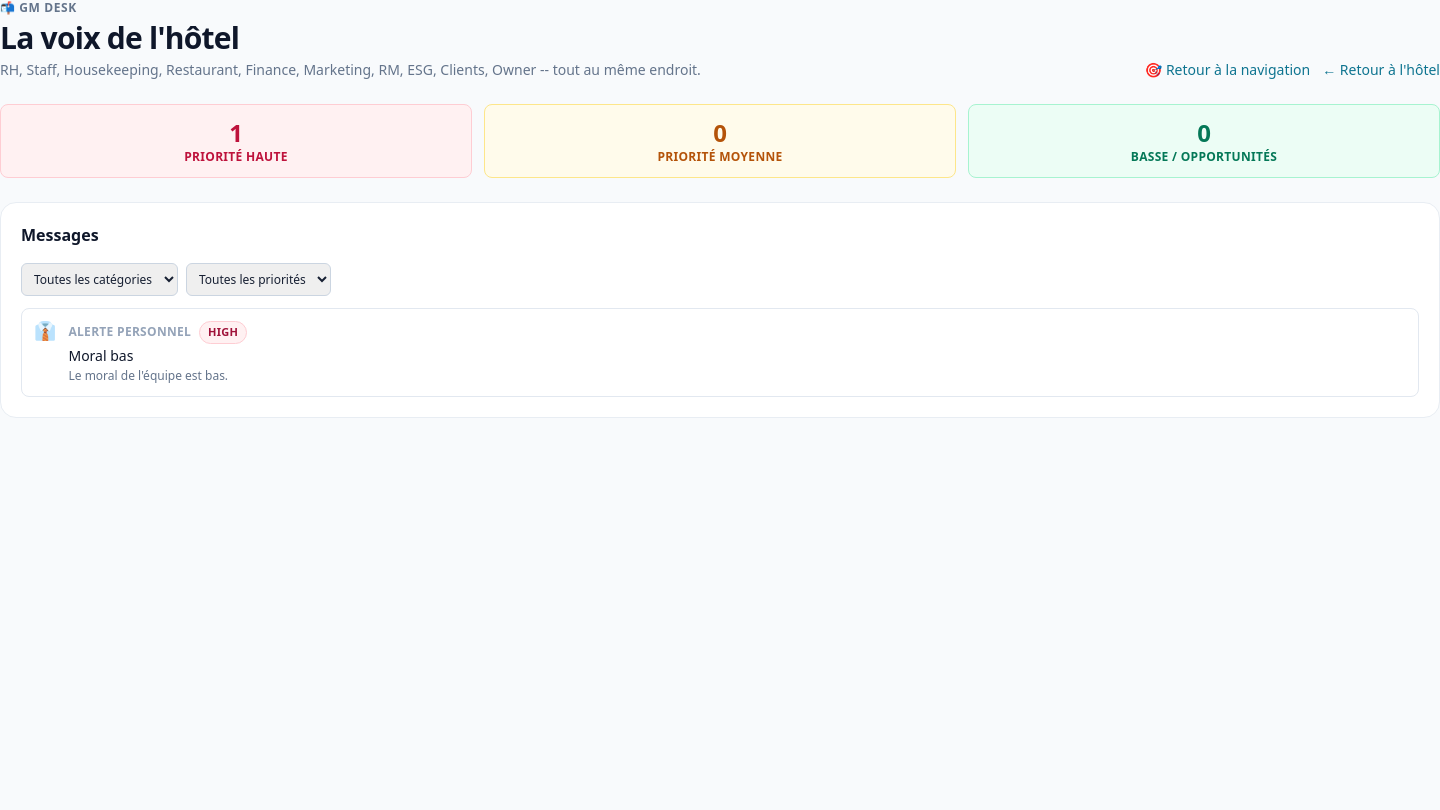
Test case: surfaces an error notification when applying a decision fails
Click the text "Moral bas" at coordinates (101, 355), box top-left (68, 346), bottom-right (134, 364)
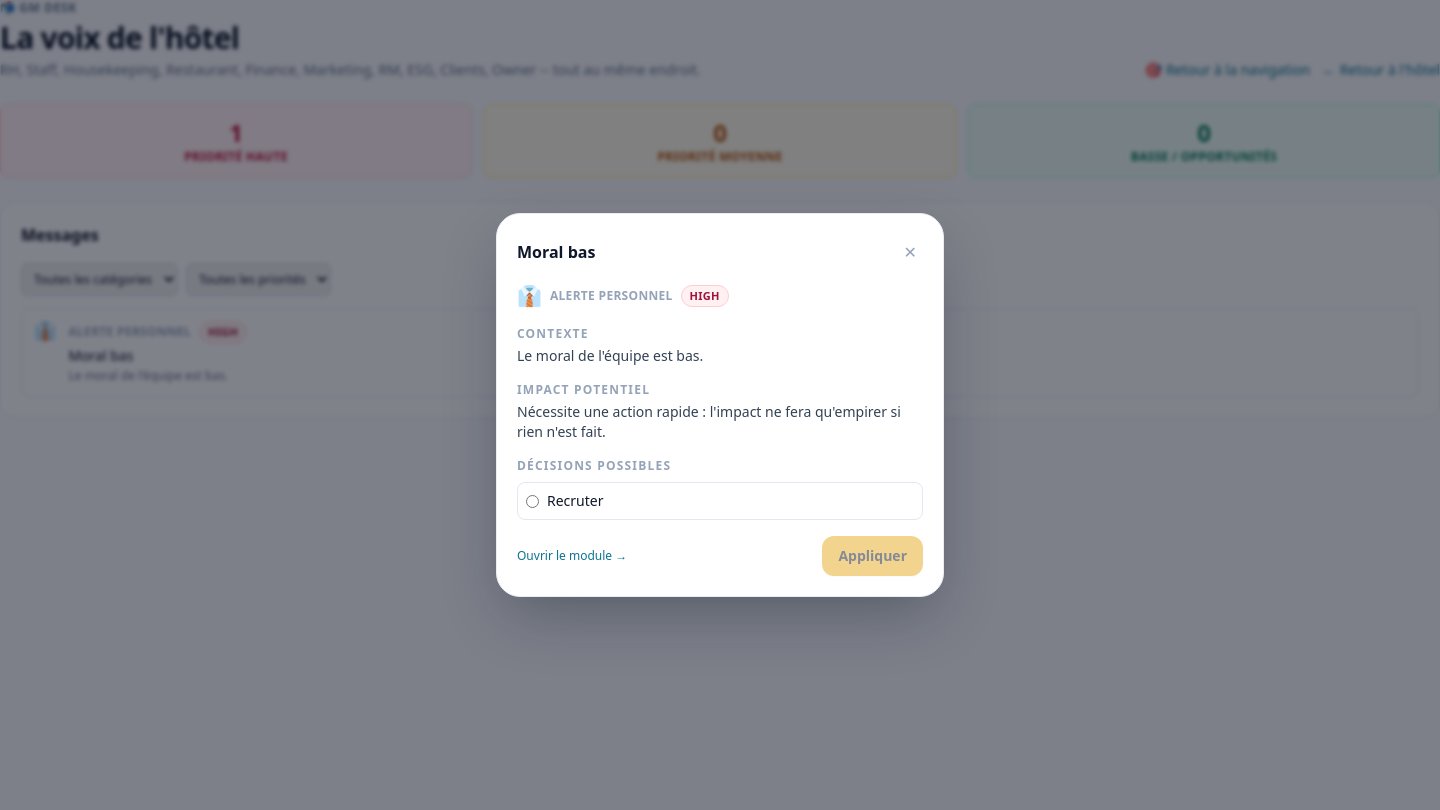
Click the radio button labelled "Recruter" at coordinates (532, 502), box top-left (526, 495), bottom-right (539, 508)
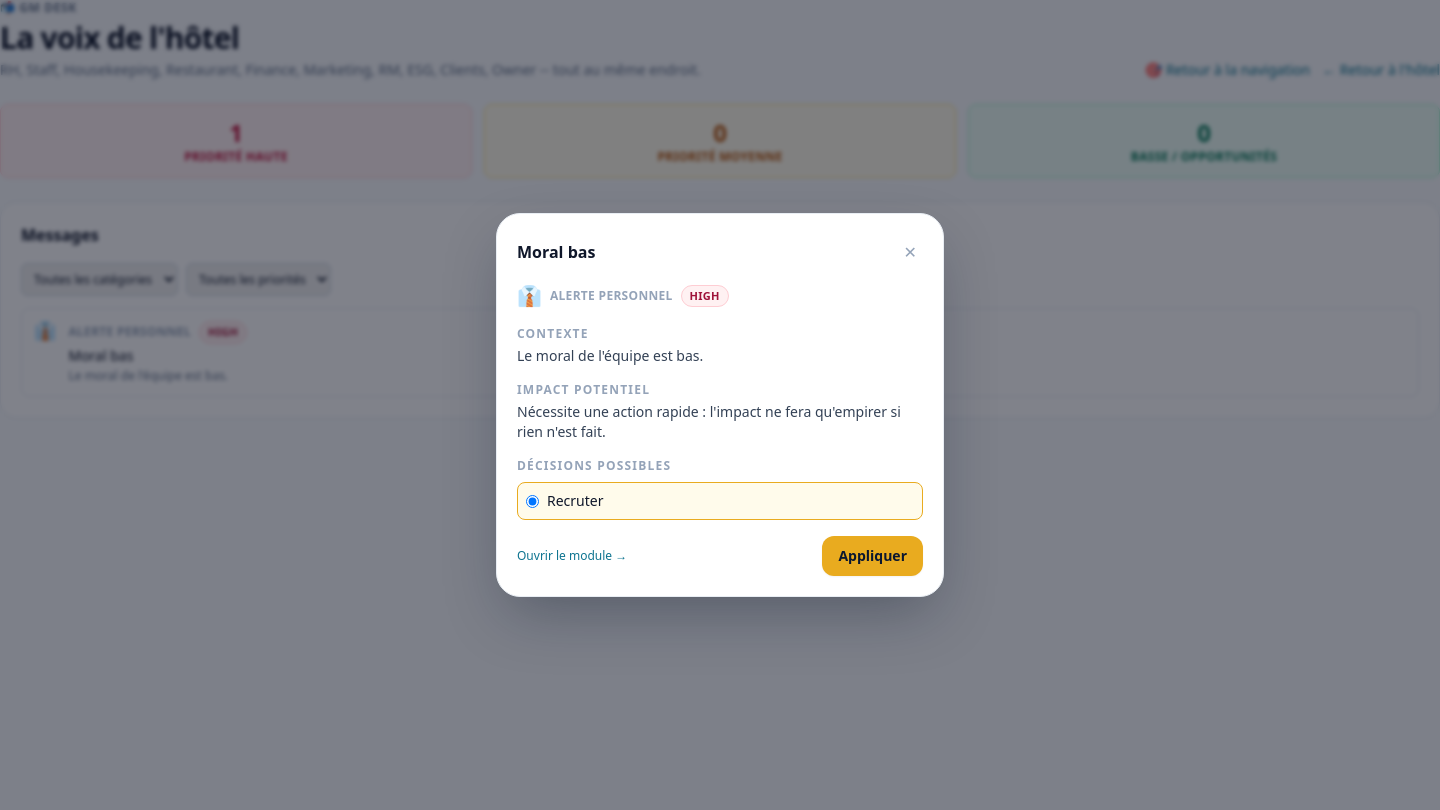
Click the button "Appliquer" at coordinates (873, 556), box top-left (822, 536), bottom-right (923, 576)
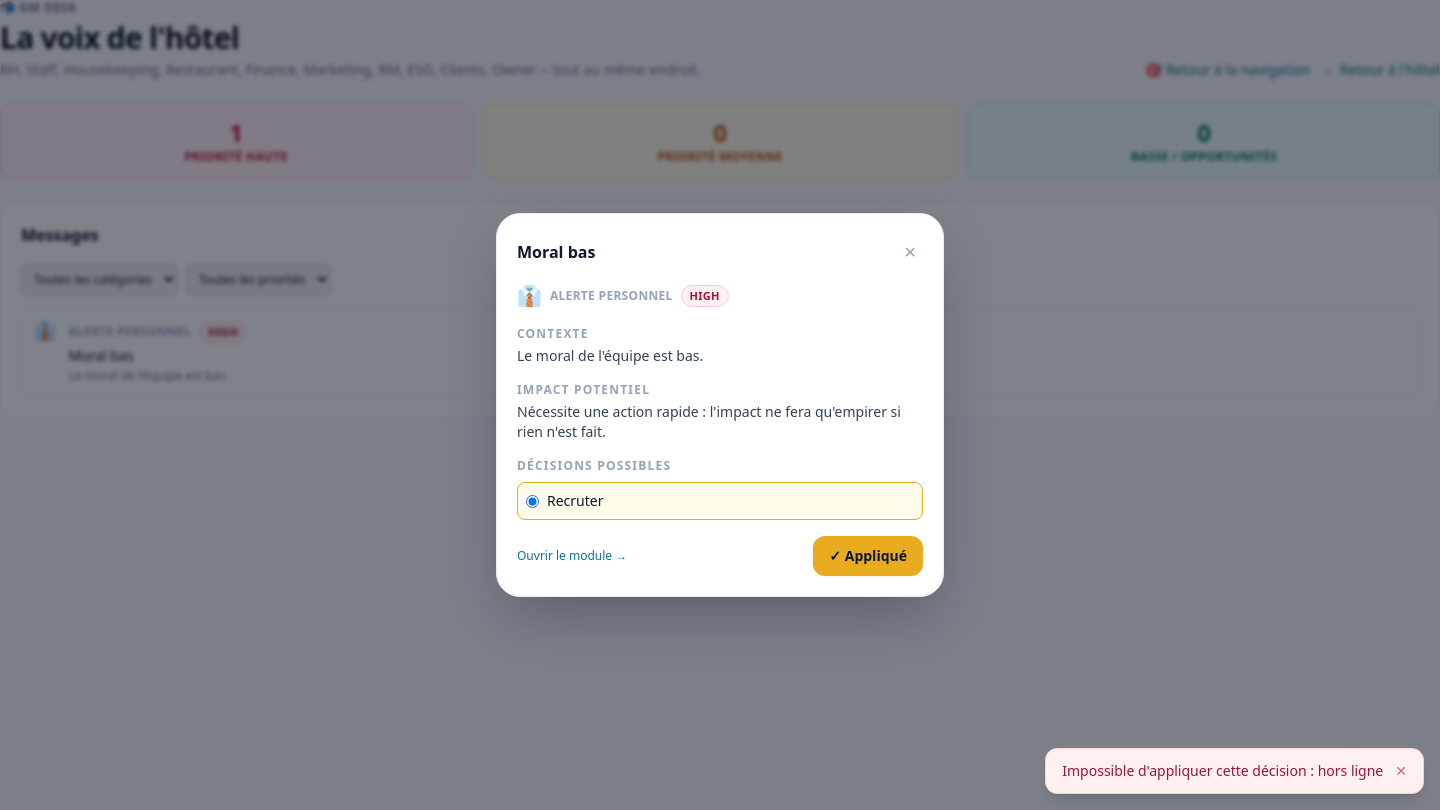
Expected: the message shows "Impossible d'appliquer", top-left (1062, 761), bottom-right (1383, 780)
